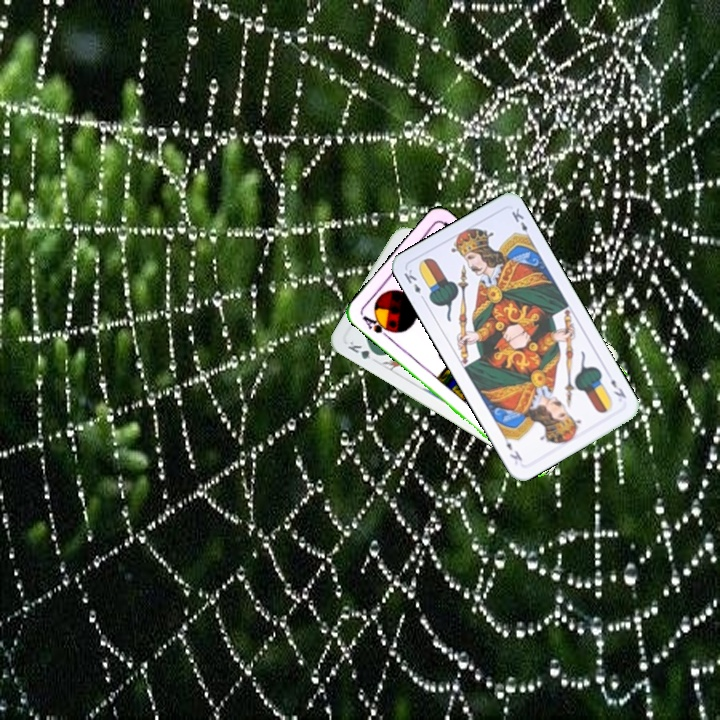EK: (400, 265, 428, 304), (607, 375, 629, 401)
GK: (343, 337, 382, 362)
SA: (358, 311, 396, 341)
